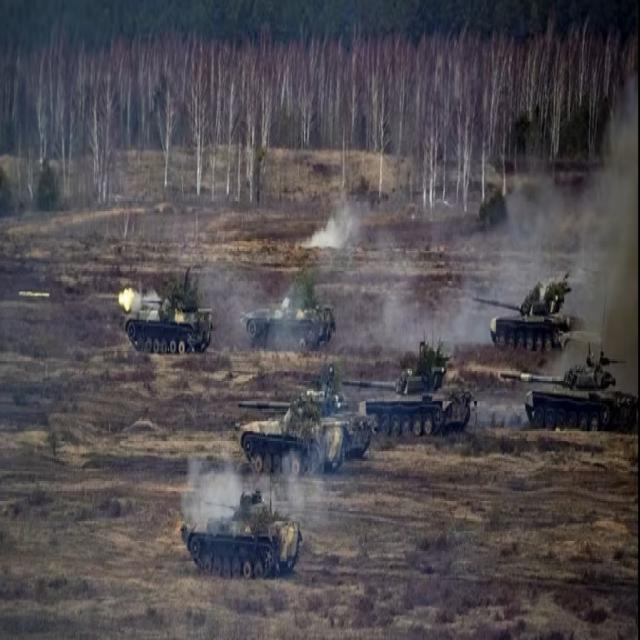APC-IFV: (179, 487, 303, 582), (240, 286, 338, 356), (117, 286, 215, 354)
TANK: (237, 374, 369, 474), (341, 348, 477, 442), (495, 351, 637, 433), (472, 280, 582, 349)
